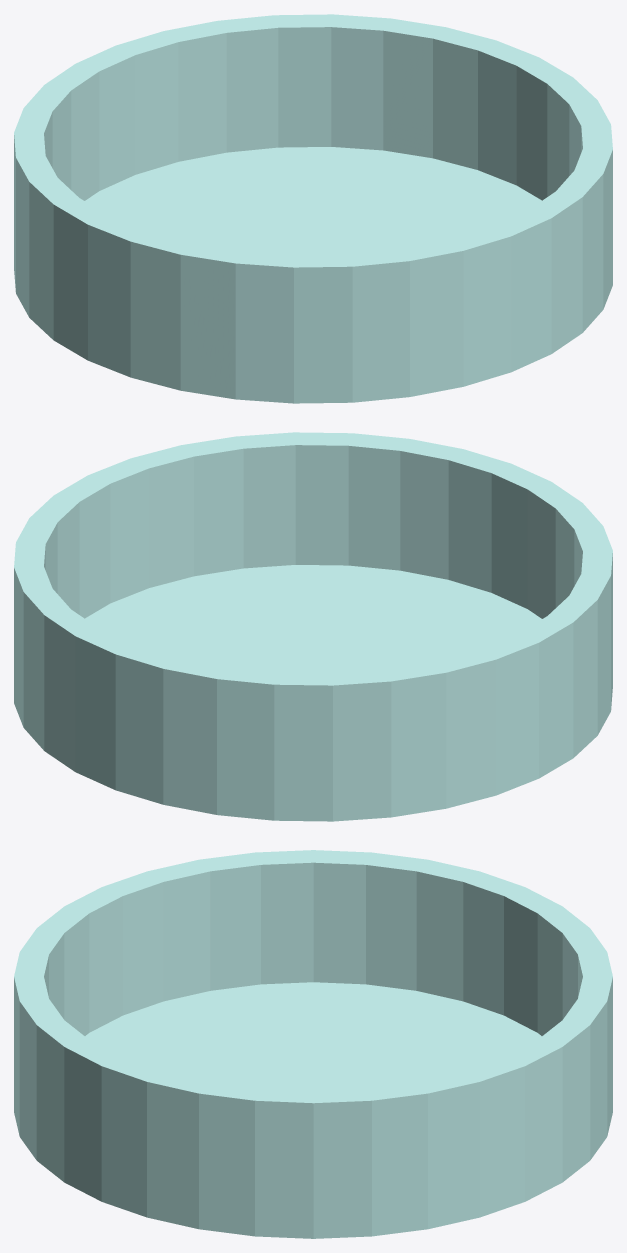
Rendered from petriSchaal.glb.
3 views of the same model, one above another, from view 1: azimuth 30°, elevation 25°; view 2: azimuth 150°, elevation 25°; view 3: azimuth 270°, elevation 25° (orthographic).
Parts seen in each view (by area): view 1: Cylinder; view 2: Cylinder; view 3: Cylinder.
Part boxes in pixels (x1,y1,x2,y2): Cylinder: (14, 14, 612, 403); Cylinder: (14, 432, 612, 821); Cylinder: (14, 850, 612, 1238).
Size of the model in its own units: 2 by 0.5 by 2.
